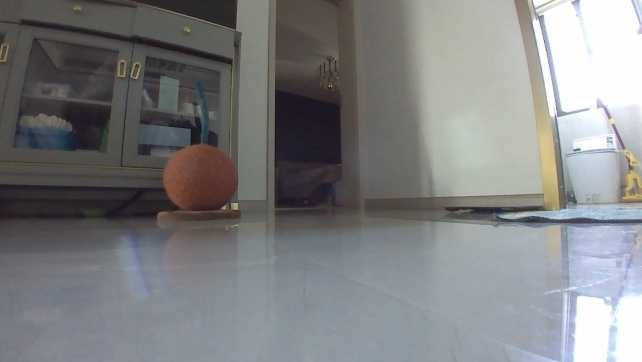blanket: (494, 205, 642, 224)
toilet: (561, 130, 623, 204)
weight_scale: (442, 200, 544, 215)
